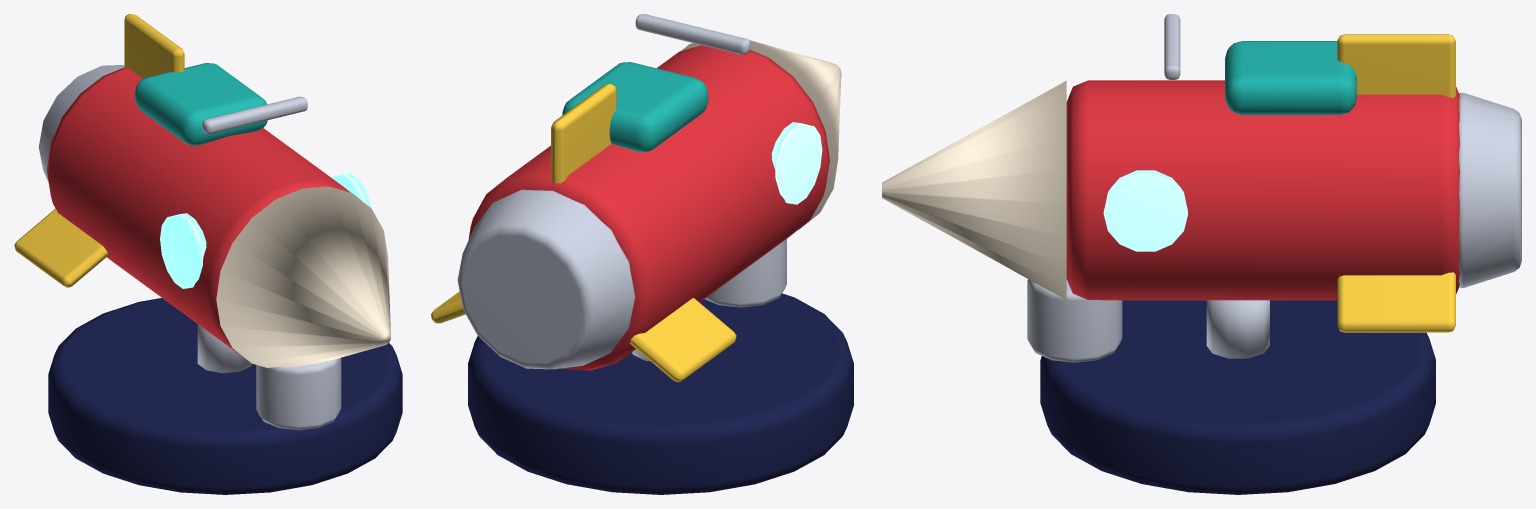
Rendered from mall_kiddie_rocket.glb.
3 views of the same model, side by side, from view 1: azimuth 30°, elevation 25°; view 2: azimuth 150°, elevation 25°; view 3: azimuth 270°, elevation 25° (orthographic). The views are drawn at different scales.
Parts seen in each view (by area): view 1: KiddieRocket; view 2: KiddieRocket; view 3: KiddieRocket.
Part boxes in pixels (x1,y1,x2,y2): KiddieRocket: [14, 14, 402, 494]; KiddieRocket: [431, 14, 853, 494]; KiddieRocket: [882, 14, 1521, 494].
Size of the model in its own units: 1.5 by 1.6 by 2.43.
